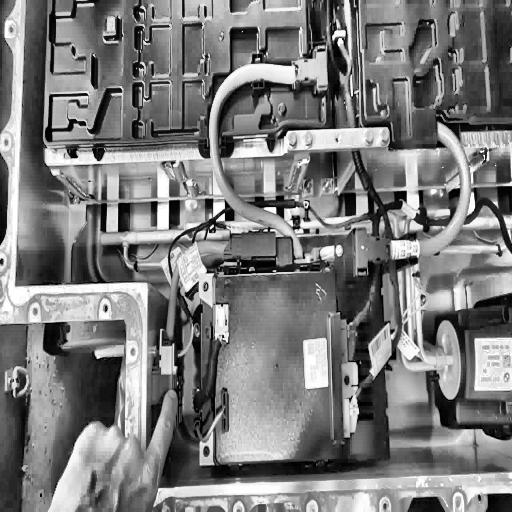high_volt_cable: (162, 41, 328, 359), (356, 115, 475, 270)
low_volt_cable: (160, 0, 509, 378)
nut: (302, 128, 314, 148), (380, 126, 390, 144), (364, 128, 374, 145), (288, 130, 297, 148)
